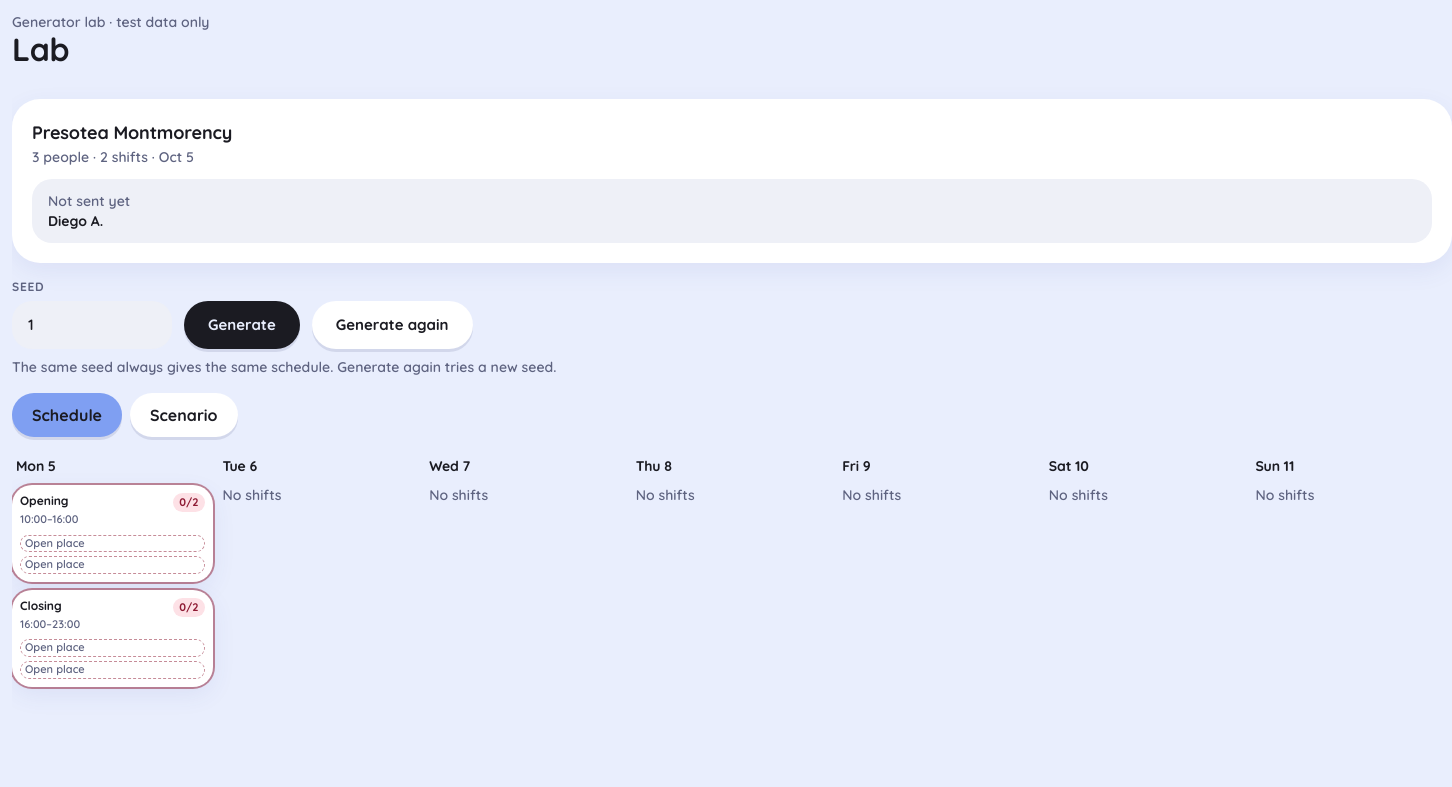
it: LabPage › counts the hard rules a lock broke
Step 1. Click the button "Generate" → (242,325), box [184, 301, 300, 349]
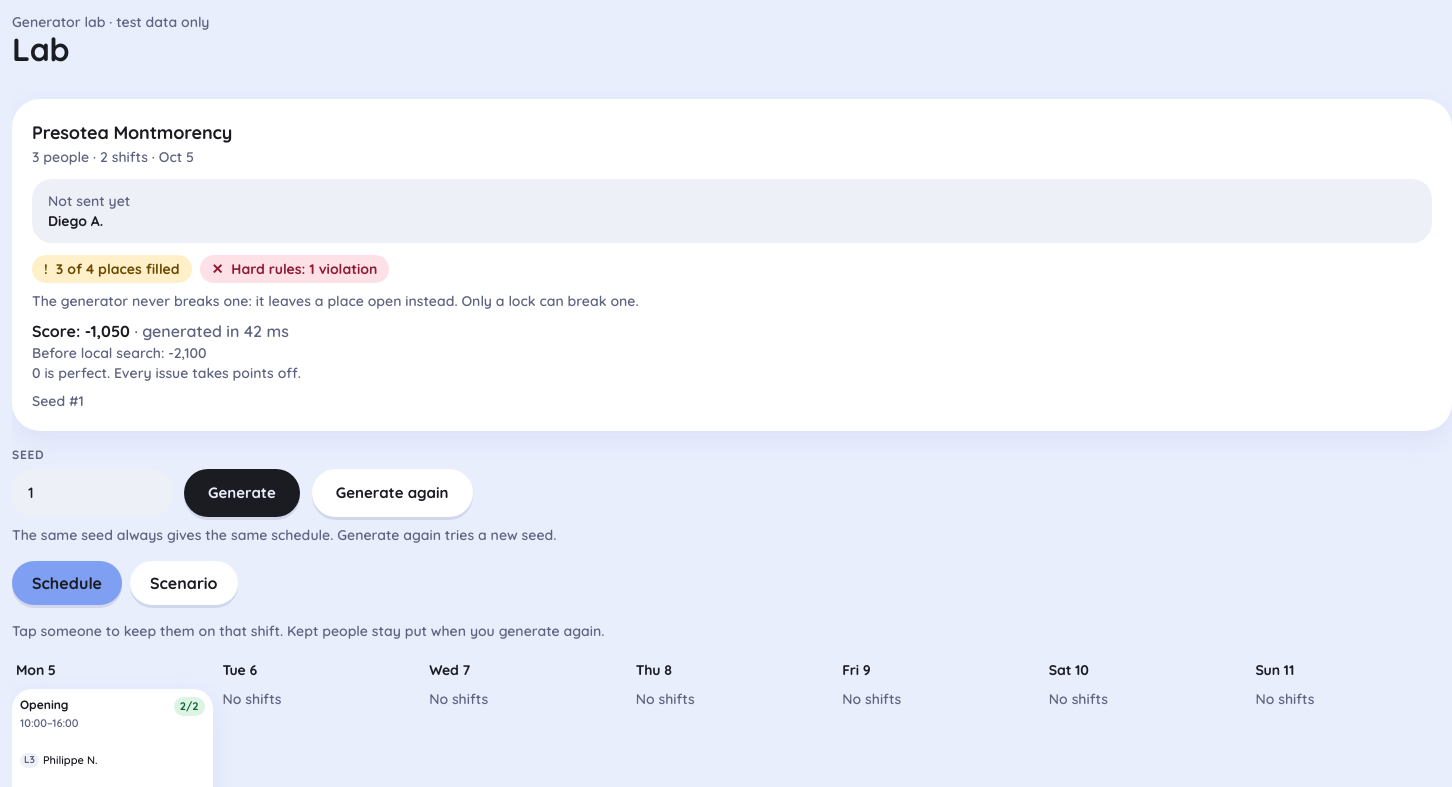
Now the text "Hard rules: 1 violation" is shown, box [231, 260, 377, 278]
